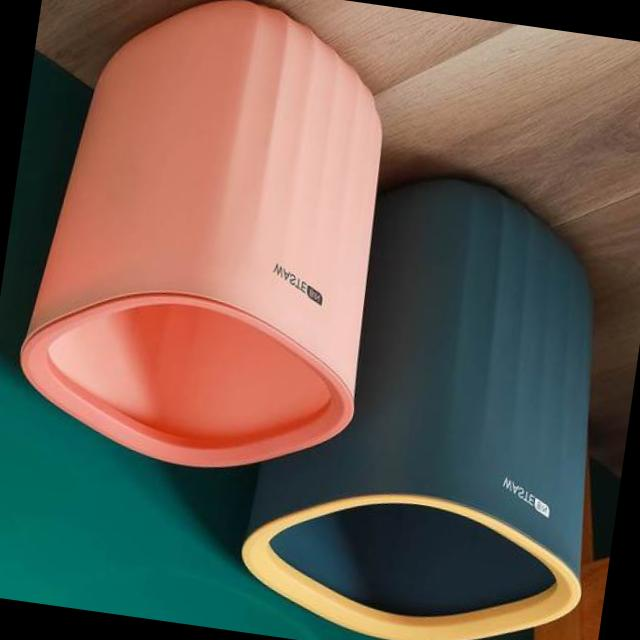dustbin: (221, 147, 640, 640), (2, 0, 414, 492)
